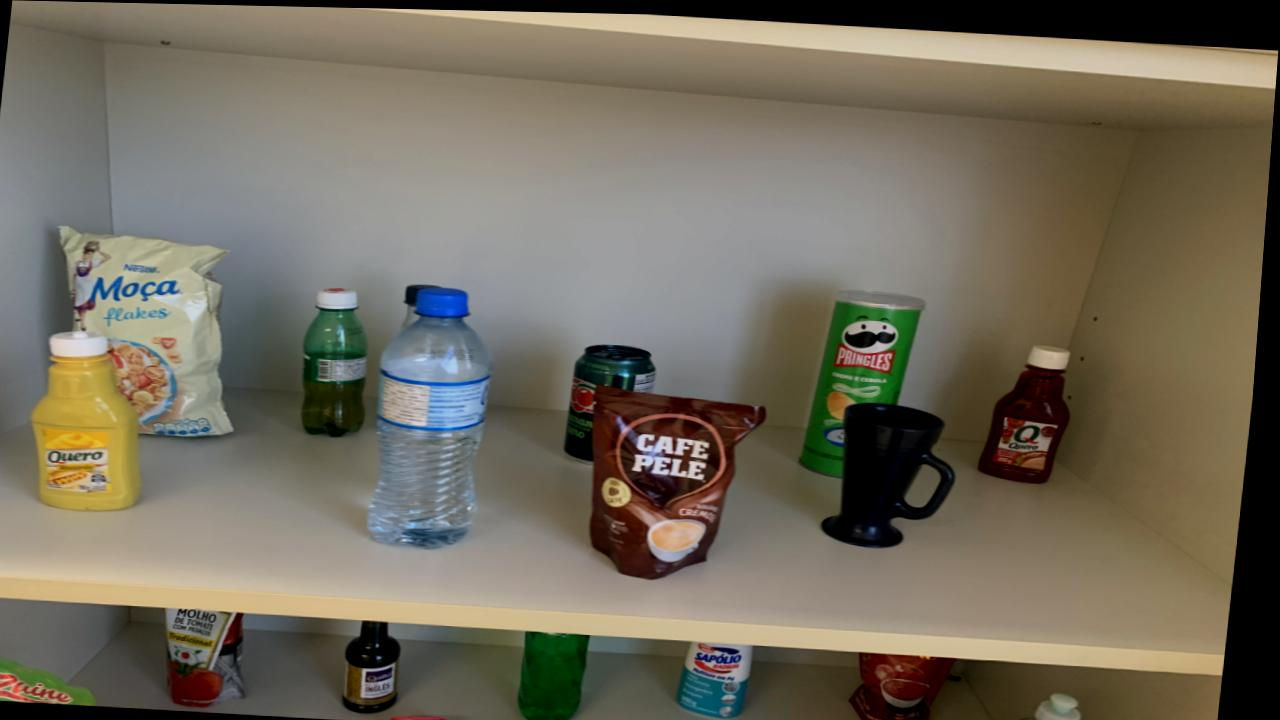Cleaner-Cleanup_Items: (686, 639, 764, 714)
Coffee-Pantry_Items: (597, 384, 771, 577)
Detergent-Cleanup_Items: (528, 629, 599, 720), (1024, 688, 1091, 720)
English_Sauce-Pantry_Items: (353, 618, 411, 711)
Flakes-Snacks: (63, 227, 238, 436)
Guarana-Drinks: (307, 287, 374, 436)
Guarana_Can-Drinks: (572, 341, 662, 458)
Ketchup-Pantry_Items: (986, 341, 1077, 478)
Mustard-Pantry_Items: (38, 330, 148, 510)
Pringles-Snacks: (806, 286, 929, 472)
Tomato_Sauce-Pantry_Items: (175, 607, 256, 706), (859, 648, 963, 720), (0, 657, 107, 706)
Water_Bottle-Drinks: (377, 286, 498, 544)
